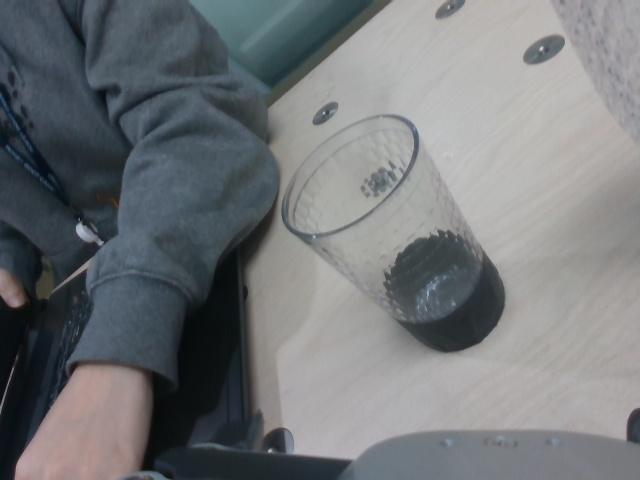black_cup: (384, 230, 506, 353)
